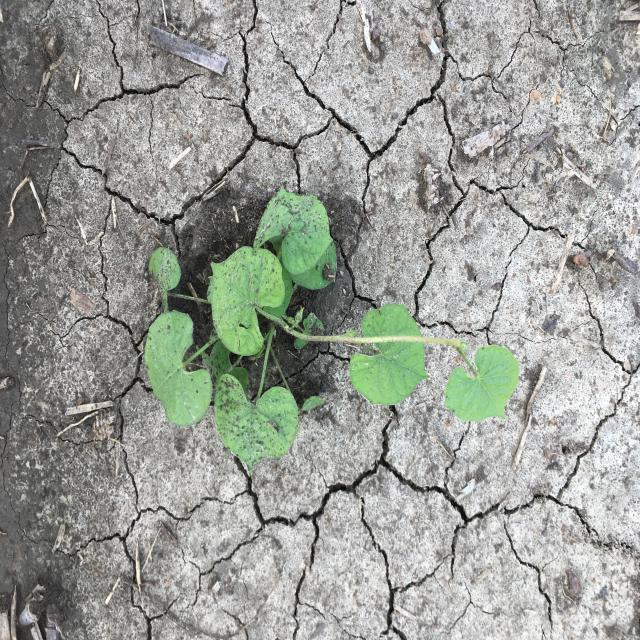MorningGlory: (141, 184, 521, 473)
